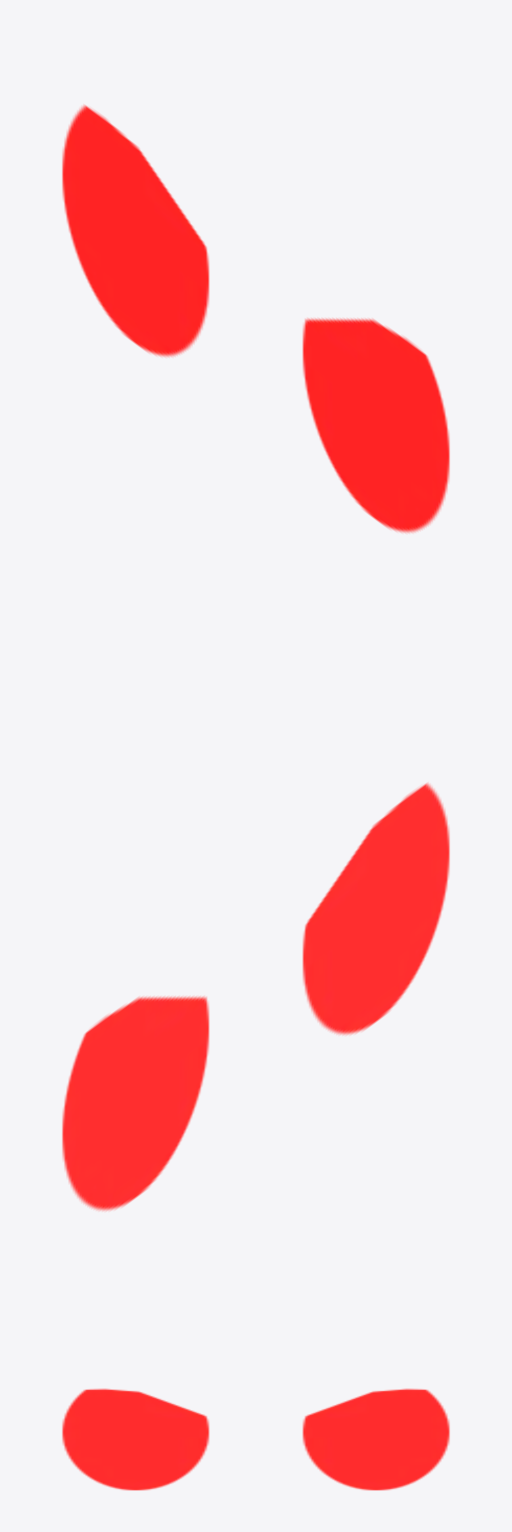
Rendered from entity137300.gltf.
3 renders of one model, top to bottom at view 1: azimuth 30°, elevation 25°; view 2: azimuth 150°, elevation 25°; view 3: azimuth 270°, elevation 25°, orthographic. The views are drawn at different scales.
Parts seen in each view (by area): view 1: node_red_eyes_anim; view 2: node_red_eyes_anim; view 3: node_red_eyes_anim.
Boxes of the visible parts, x1=… form: node_red_eyes_anim: x1=62, y1=105, x2=449, y2=532; node_red_eyes_anim: x1=62, y1=783, x2=449, y2=1210; node_red_eyes_anim: x1=62, y1=1388, x2=449, y2=1490.
Size of the model in its own units: 3.15e-15 by 0.4024 by 1.2.
